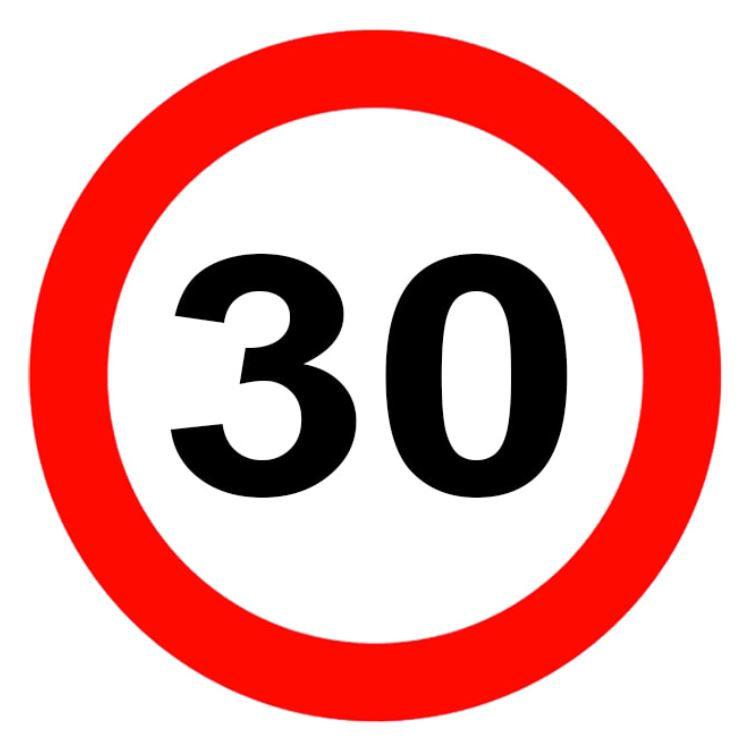30 Km Hiz Siniri: (29, 29, 725, 725)
